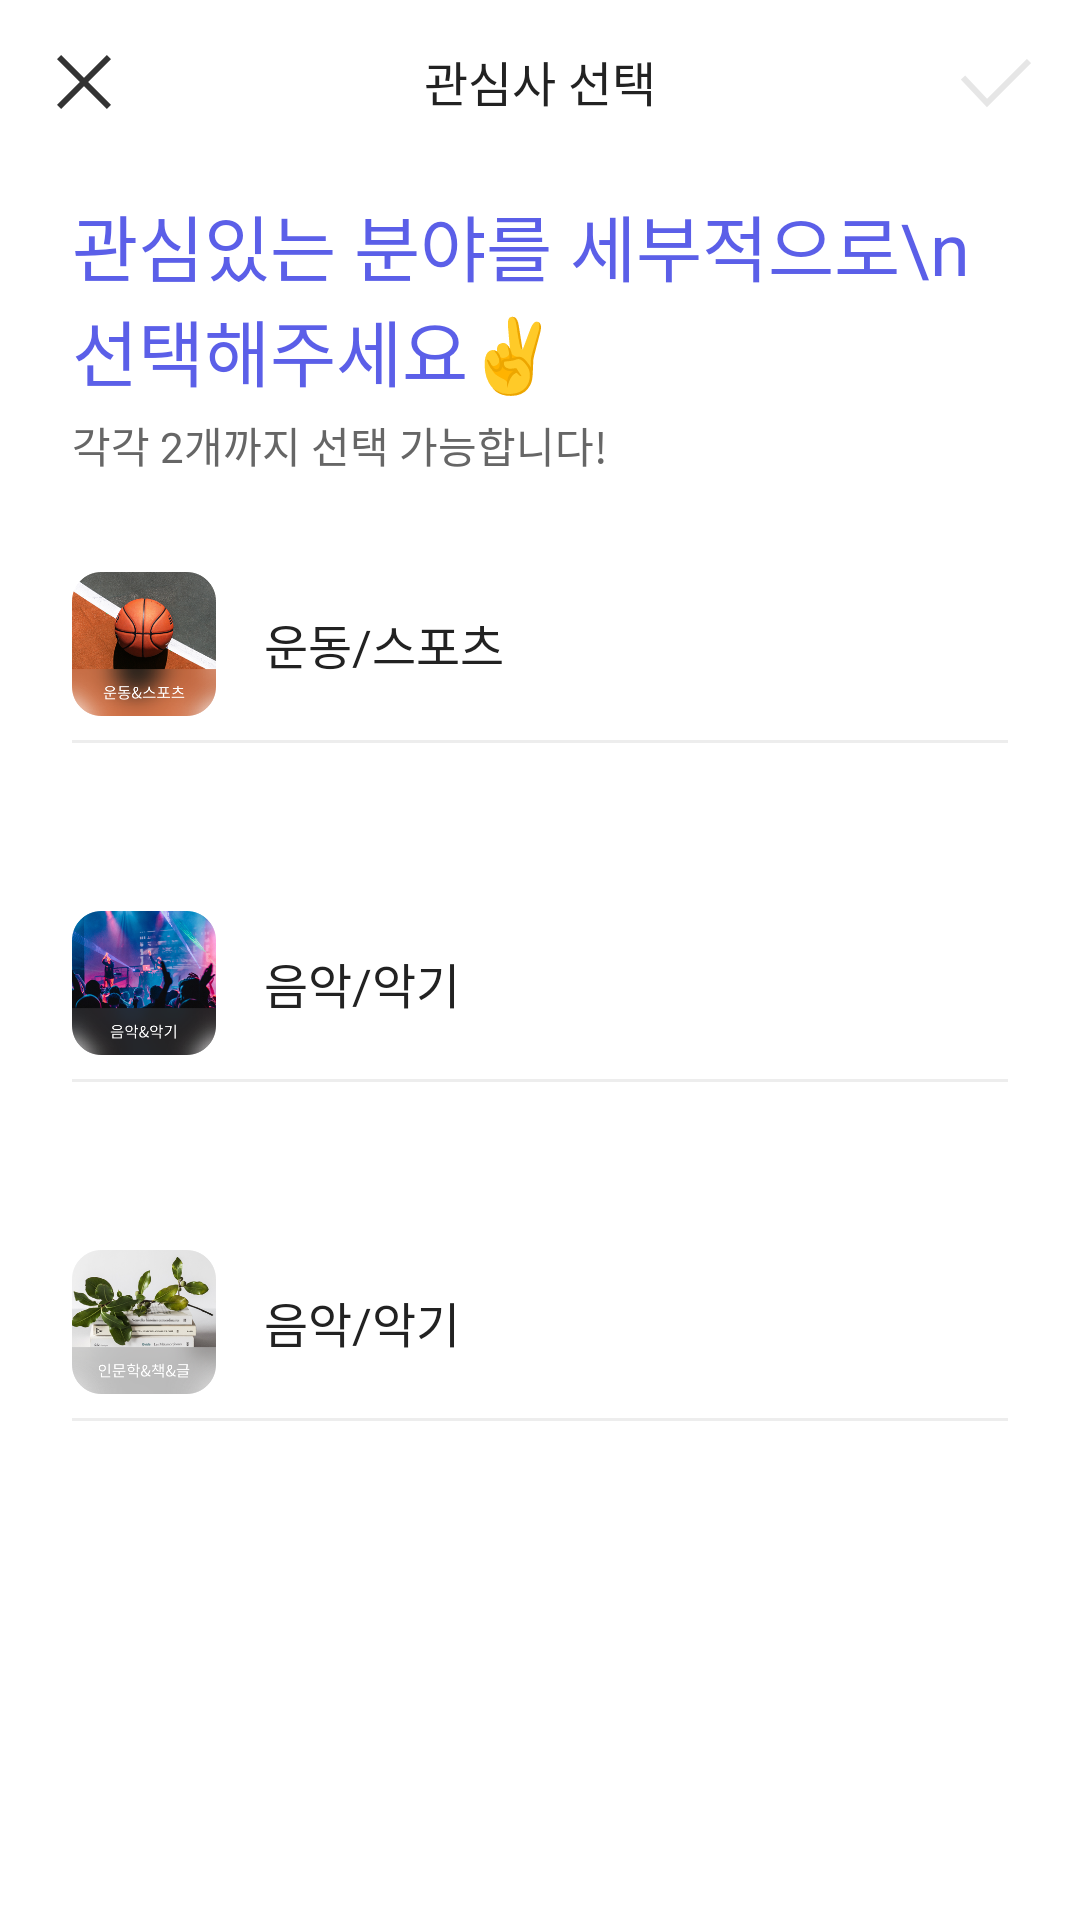

Icons on this 1080 x 1920 Android screen, each with its box as (x1, y1, x2, y2):
close: (57, 55, 111, 109)
save: (962, 60, 1030, 106)
